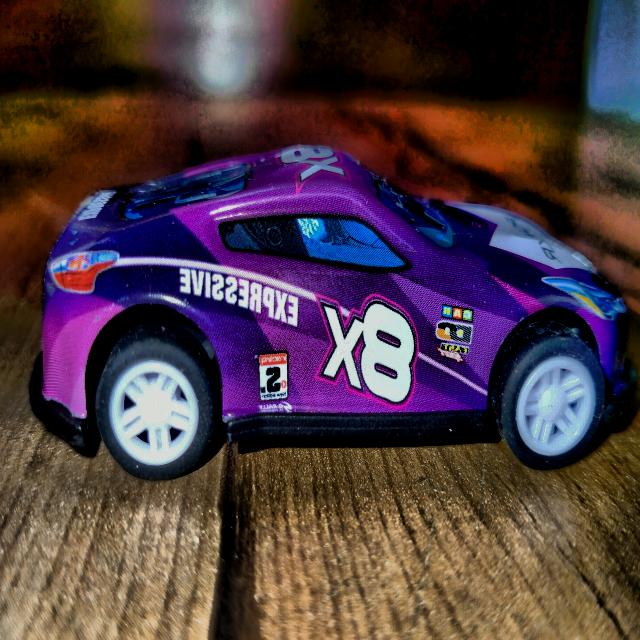Car: (27, 132, 640, 520)
